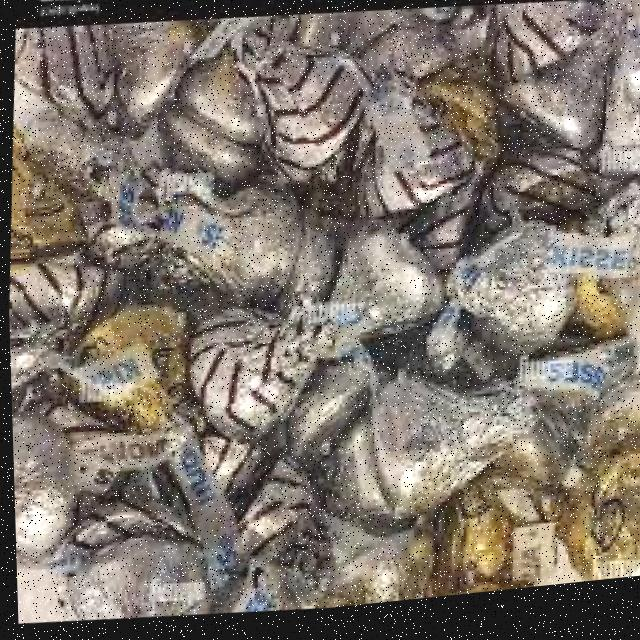kisses: (177, 271, 396, 480), (213, 16, 408, 218), (428, 217, 605, 409)
